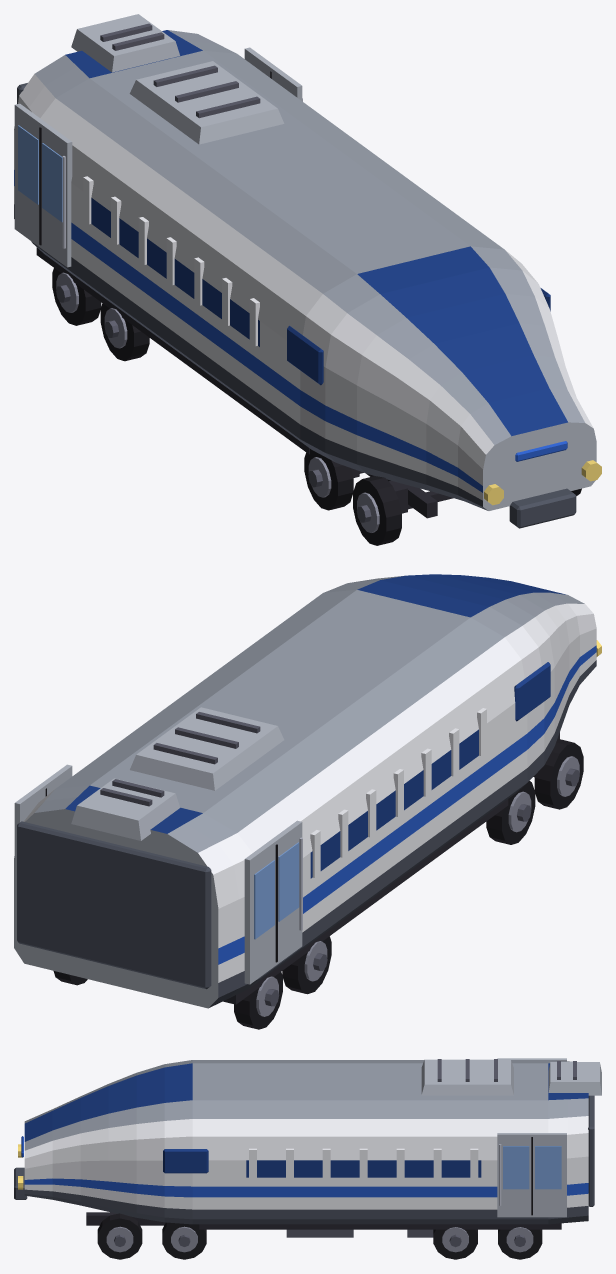
File: tgv.glb
3 views of the same model, one above another, from view 1: azimuth 30°, elevation 25°; view 2: azimuth 150°, elevation 25°; view 3: azimuth 270°, elevation 25° (orthographic). The views are drawn at different scales.
Visible parts, largest first — view 1: Tgv; view 2: Tgv; view 3: Tgv.
Boxes of the visible parts, bbox=[...] form: Tgv: bbox=[14, 14, 601, 545]; Tgv: bbox=[14, 574, 601, 1029]; Tgv: bbox=[14, 1058, 601, 1259].
Bounding box in the file's own units: 1.38 × 1.3 × 4.38.
1 material, 1 textured.
